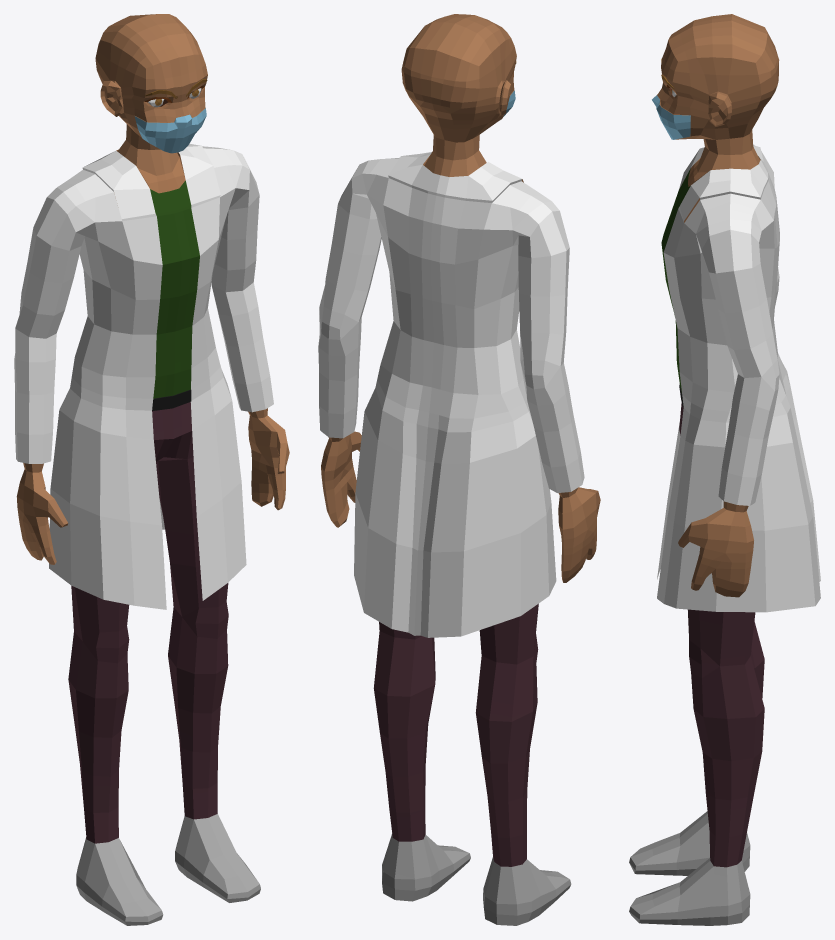
The model's file is ScientistMale_Stand.fbx.
3 views of the same model, side by side, from view 1: azimuth 30°, elevation 25°; view 2: azimuth 150°, elevation 25°; view 3: azimuth 270°, elevation 25° (orthographic). The views are drawn at different scales.
Parts seen in each view (by area): view 1: ScientistMale_Stand; view 2: ScientistMale_Stand; view 3: ScientistMale_Stand.
Boxes of the visible parts, <box> form: ScientistMale_Stand: <box>14,14,289,925</box>; ScientistMale_Stand: <box>318,14,600,925</box>; ScientistMale_Stand: <box>629,14,820,925</box>.
Bounding box in the file's own units: 0.3245 × 1.05 × 0.2102.
